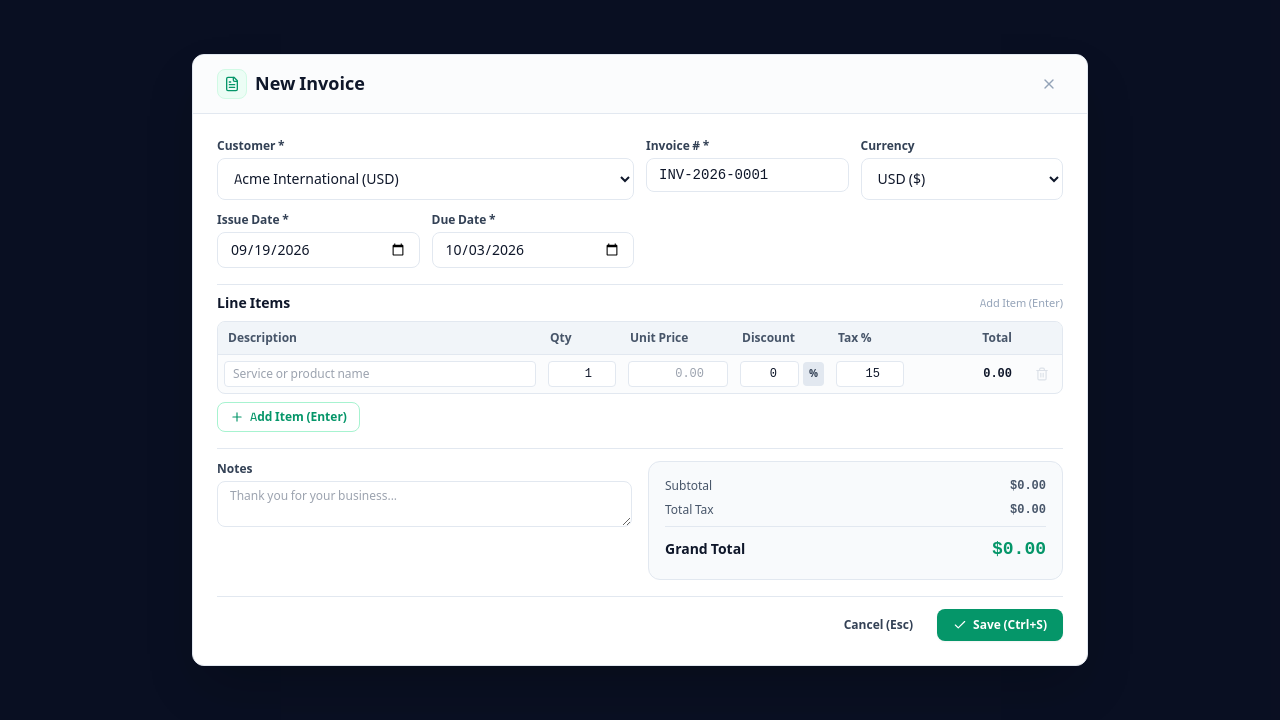
Test: Integration Test: InvoiceForm Component (AC3 & Real-Time Calculations) › AC3: dynamically updates Grand Total in real-time as line items are modified without clicking any button
Expected: the element with id "grand-total-display" is shown, [992,535,1046,563]
Expected: the element with id "grand-total-display" shows "0.00", [992,539,1046,559]
Type "50.00" into the number field with placeholder "0.00" at (678, 374), box [628,361,728,387]
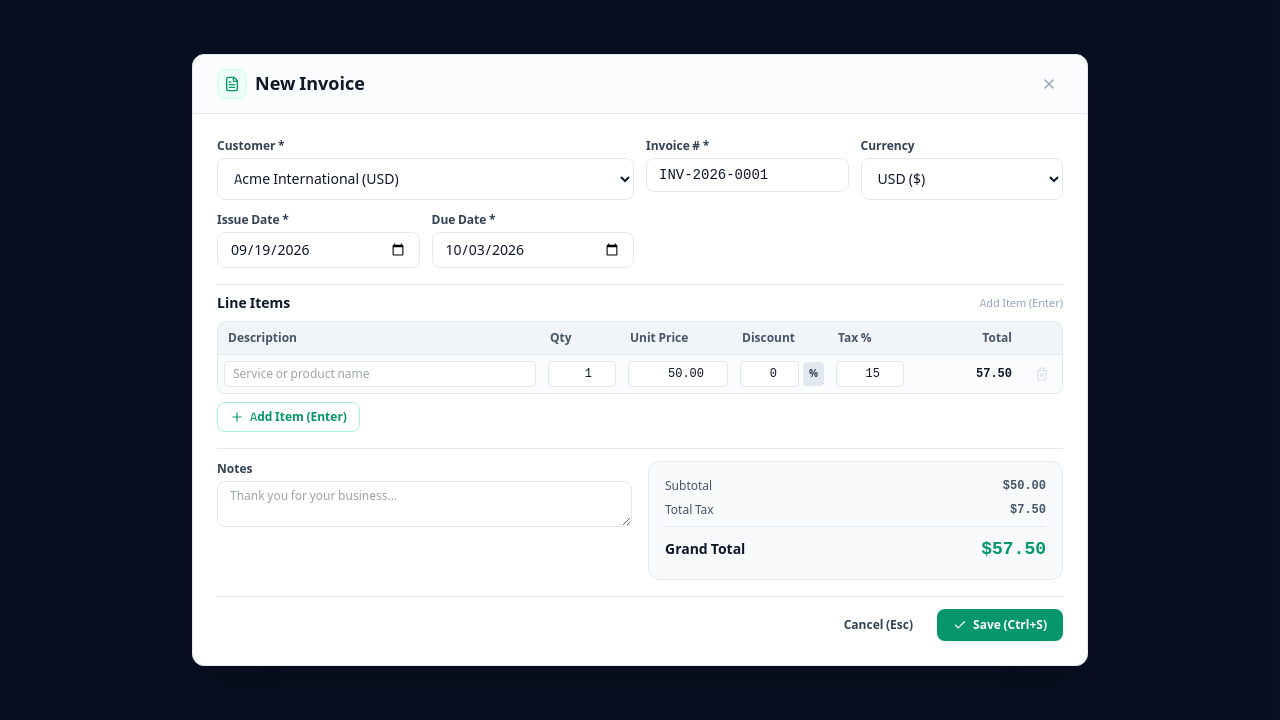
Result: the element with id "grand-total-display" shows "57.50" at [981,539,1046,559]
Replace the text in the 1st number field with "3" at (582, 374), box [548,361,616,387]
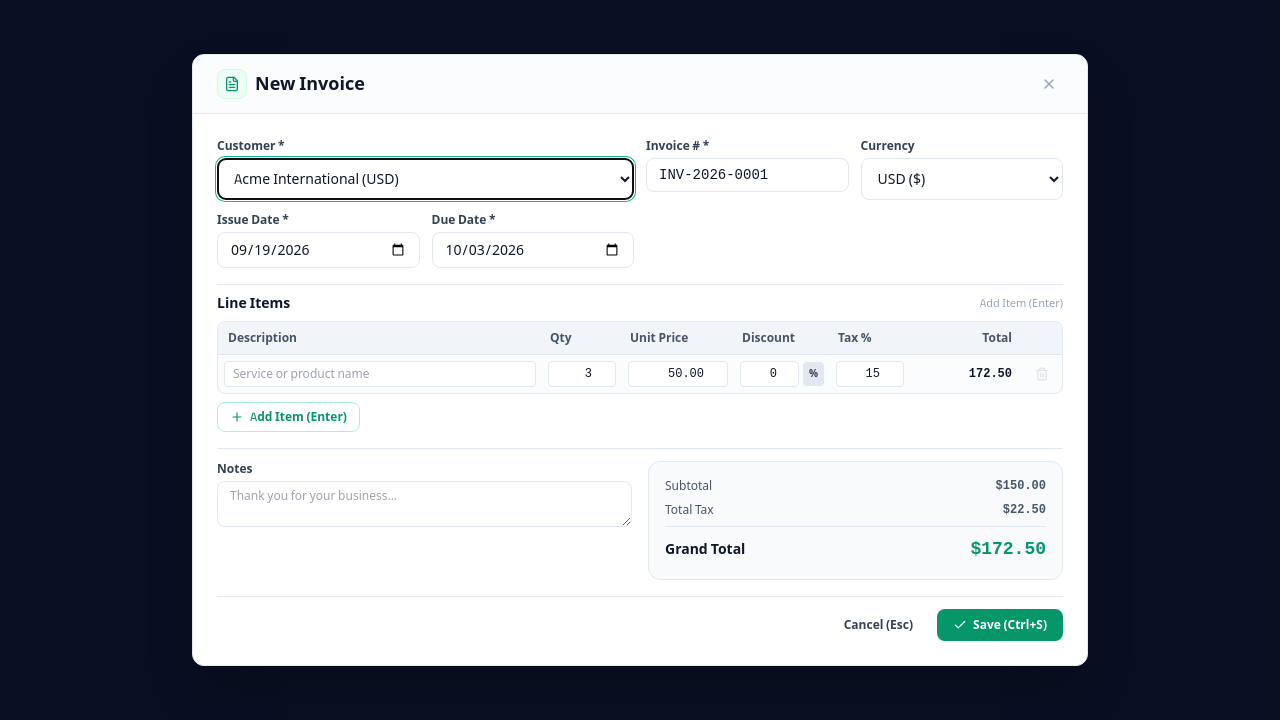
Result: the element with id "grand-total-display" shows "172.50" at [970,539,1046,559]
Replace the text in the 3rd number field with "10" at (770, 374), box [740,361,799,387]
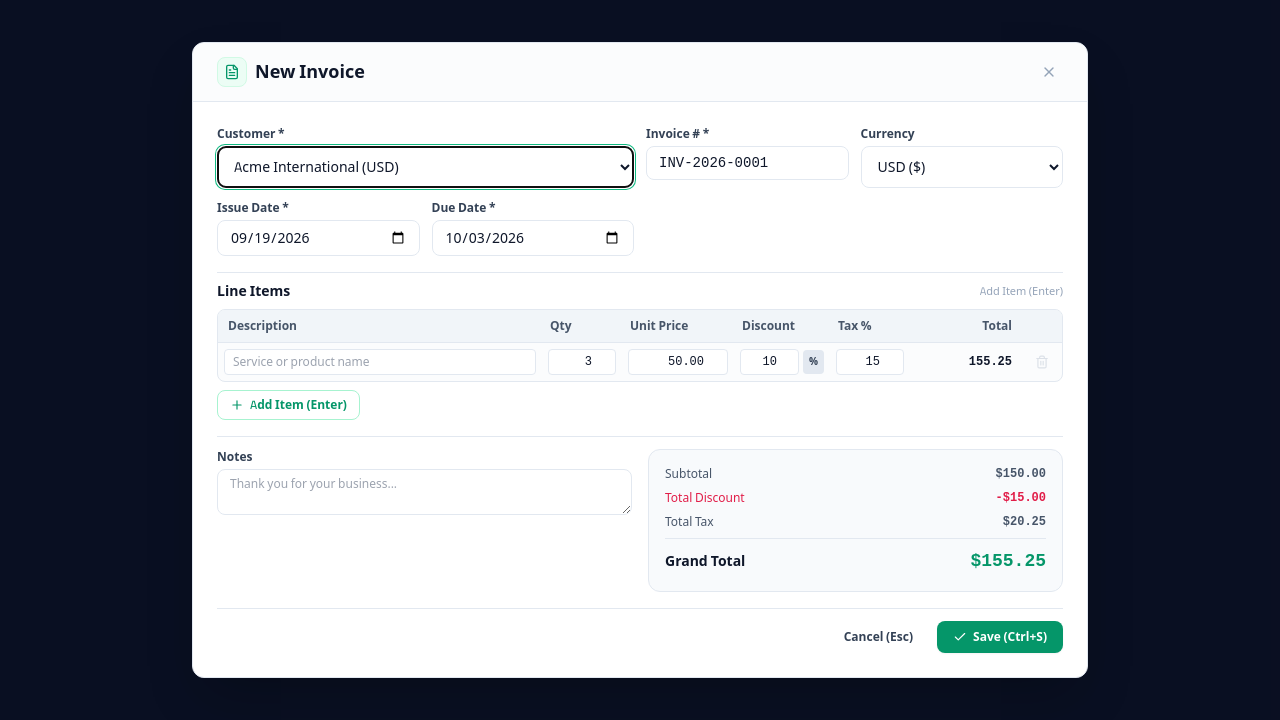
Result: the element with id "grand-total-display" shows "155.25" at [970,551,1046,571]
